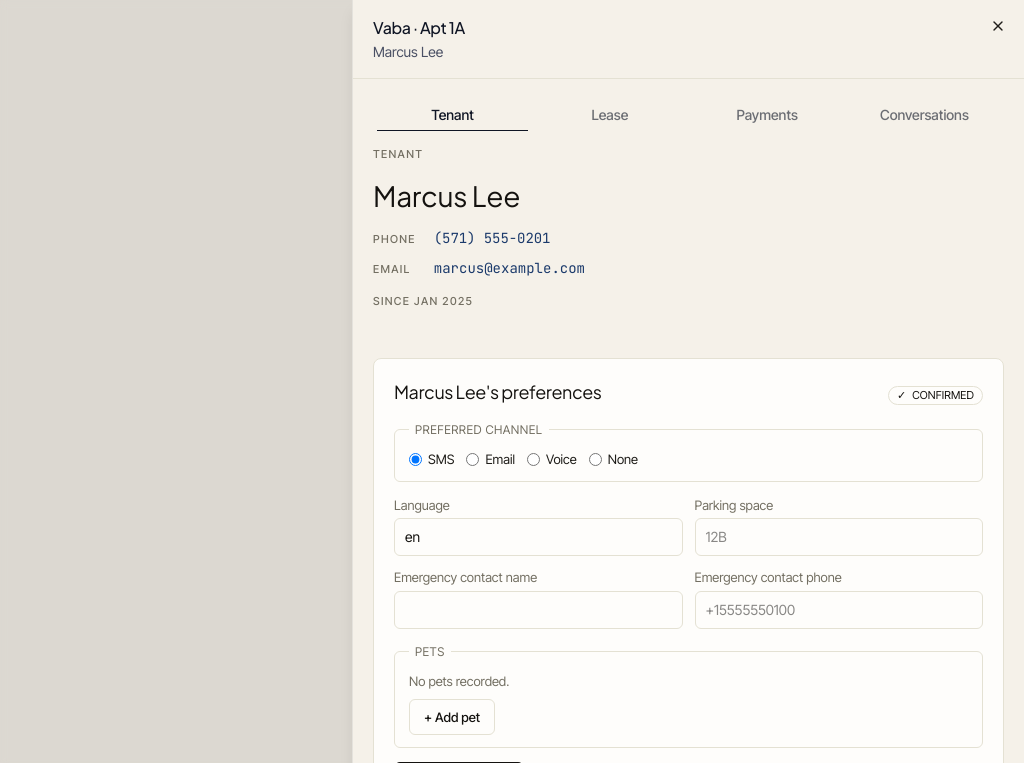
Test: UnitDetailDrawer › open with full detail › switches to Payments tab and renders the rent payment history
The width and height of the screenshot is (1024, 763).
Click the tab with test id "unit-detail-tab-payments" at x=767, y=115, box [690,102,844,128]
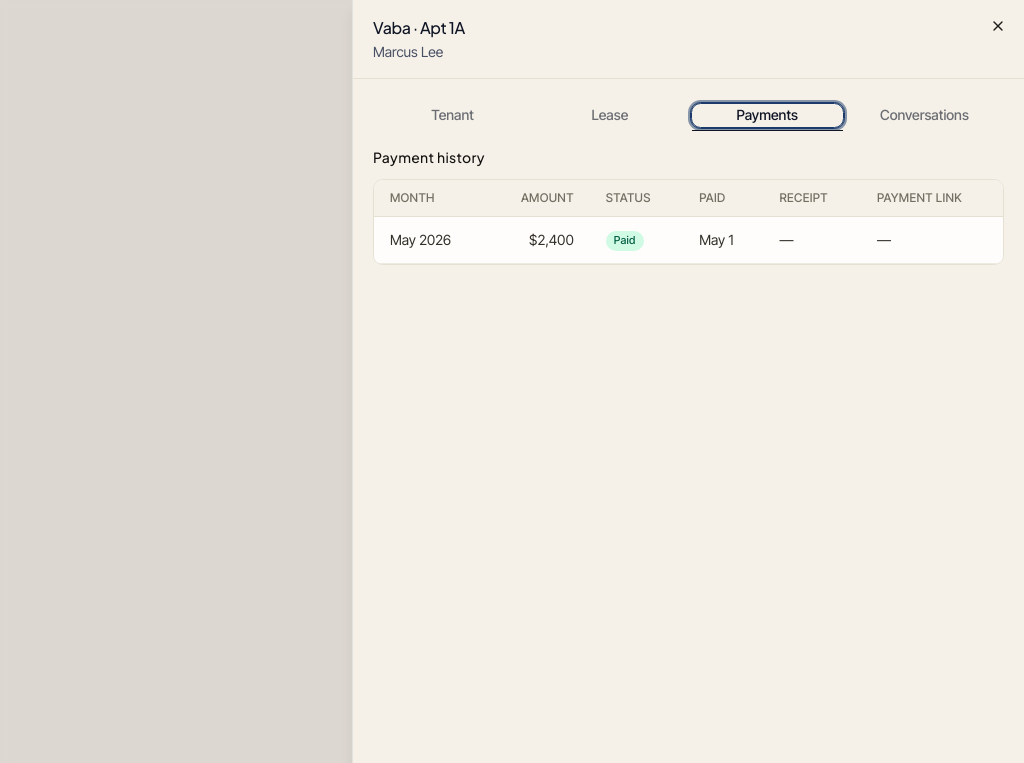
Expected: the element with test id "rent-payment-history" is shown, [373,147,1004,265]
